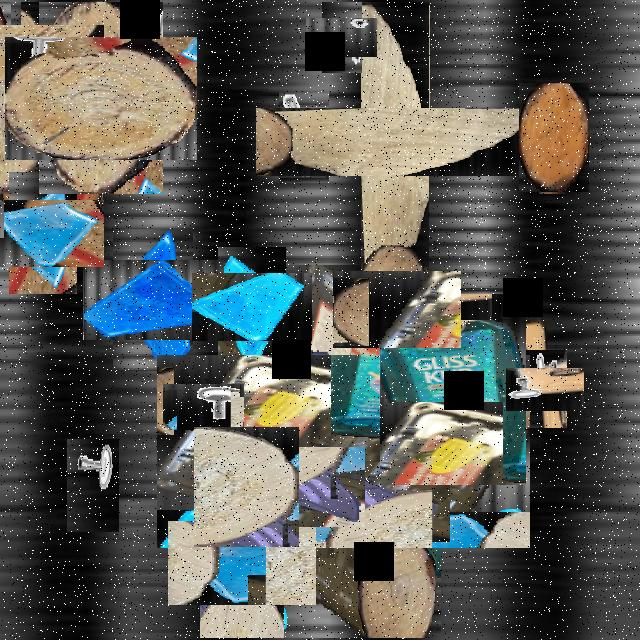glass: (184, 505, 300, 622), (98, 245, 208, 356), (238, 432, 349, 542), (205, 260, 299, 355), (0, 185, 90, 280)
metal: (9, 13, 92, 97), (269, 102, 339, 172), (67, 439, 119, 532), (171, 375, 235, 439), (514, 359, 576, 420), (314, 10, 370, 65)
plastic: (202, 310, 486, 593), (368, 305, 538, 474)
wood: (308, 55, 482, 229), (22, 19, 180, 177), (0, 36, 103, 252), (190, 430, 302, 544), (346, 258, 448, 361), (0, 55, 65, 175), (519, 84, 589, 194)
